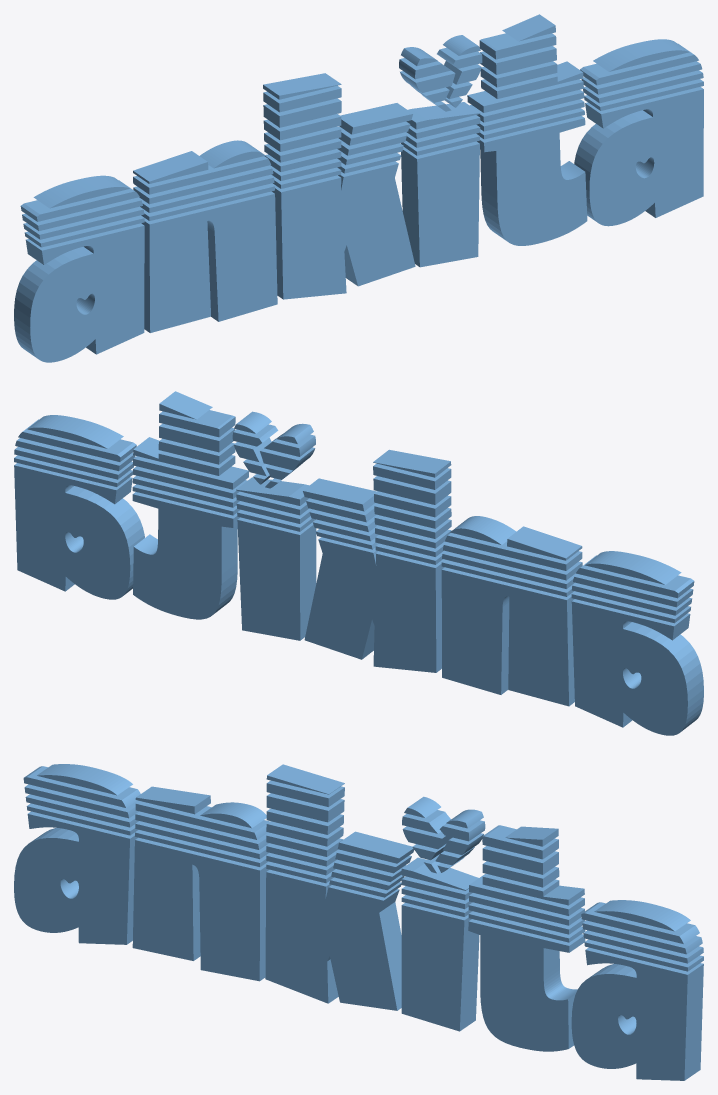
File: asphalt.glb
3 renders of one model, top to bottom at view 1: azimuth 30°, elevation 25°; view 2: azimuth 150°, elevation 25°; view 3: azimuth 330°, elevation 25°, orthographic.
Parts seen in each view (by area): view 1: Curve.001; view 2: Curve.001; view 3: Curve.001.
Boxes of the visible parts, left/top/right/bottom form: Curve.001: left=14, top=14, right=703, bottom=362; Curve.001: left=14, top=391, right=703, bottom=735; Curve.001: left=14, top=764, right=703, bottom=1080.
Size of the model in its own units: 7.21 by 2.2 by 0.3527.
